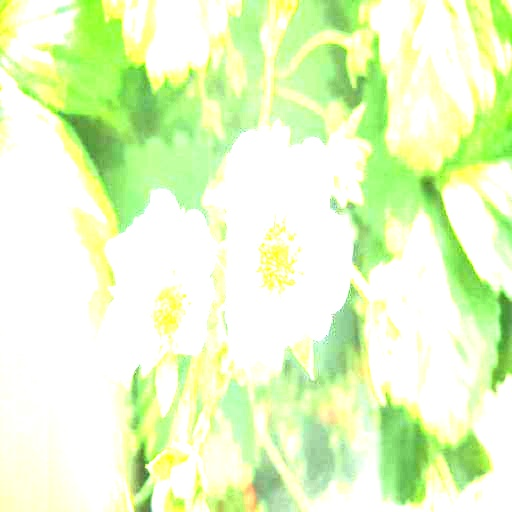Blossom Blight: (132, 252, 197, 357), (250, 203, 312, 304)
